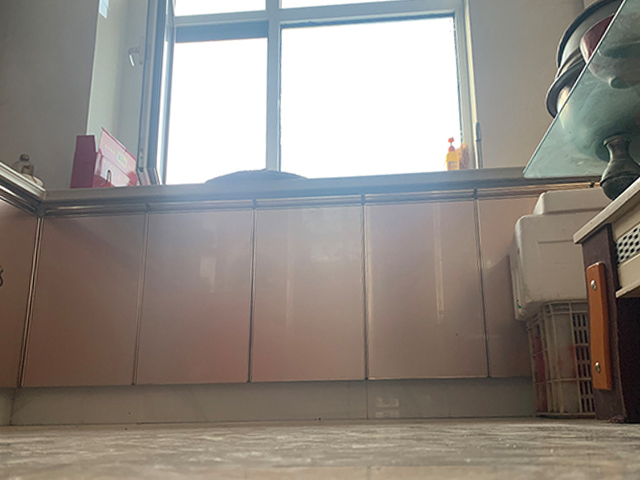cabinet: (34, 188, 479, 414)
table: (522, 1, 640, 421)
